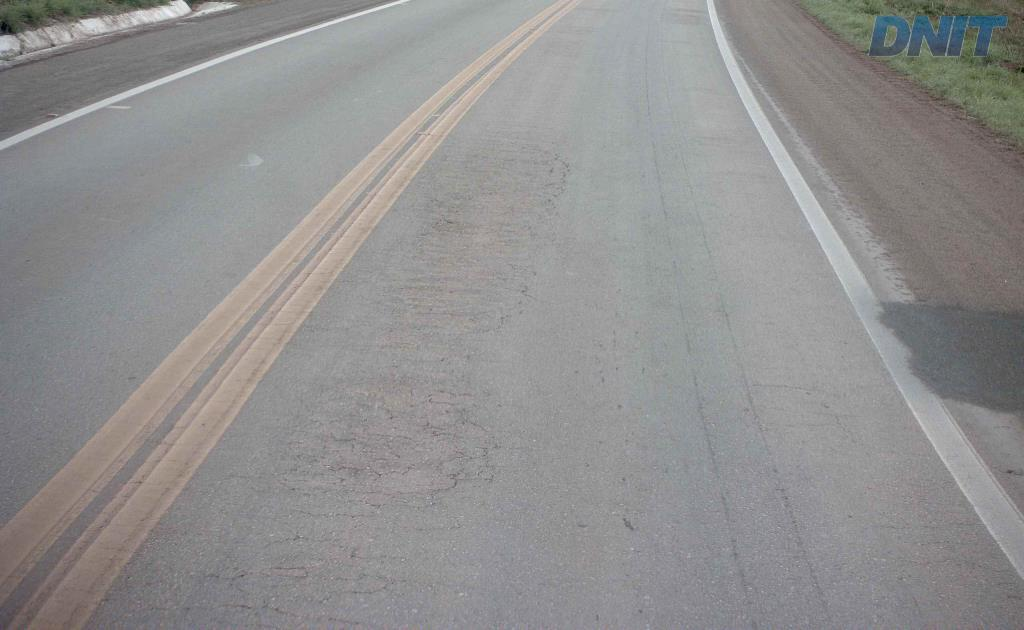crack: (427, 196, 482, 237)
